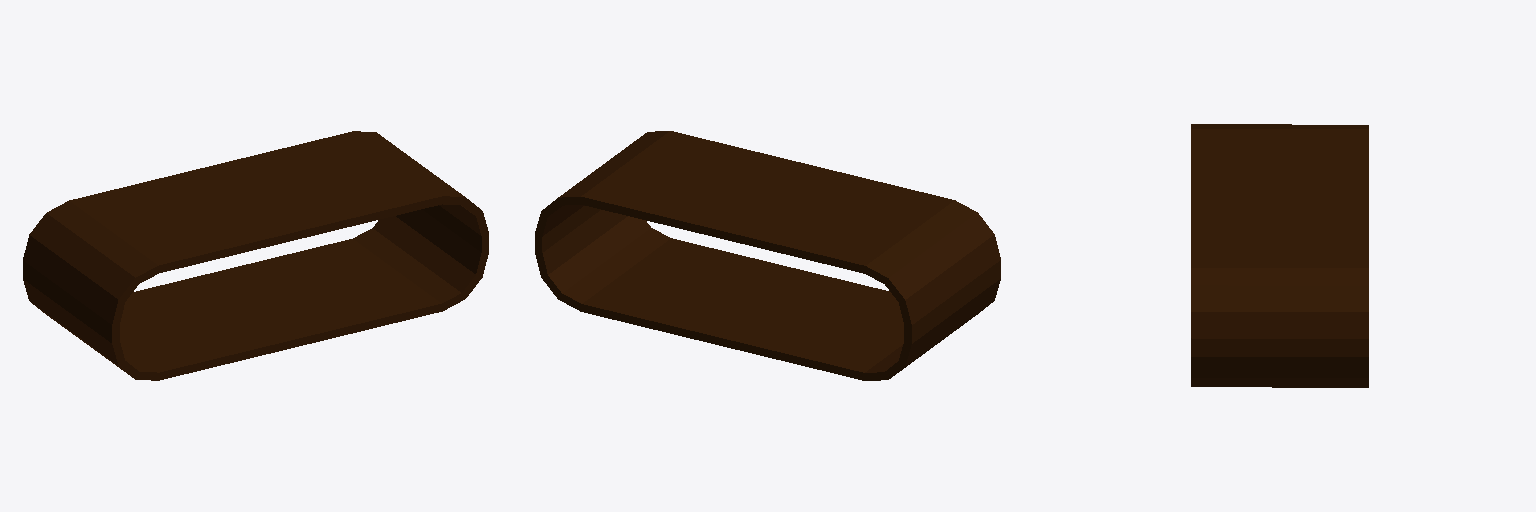
Rendered from Napkin Tie BB.obj.
3 renders of one model, left to right at view 1: azimuth 30°, elevation 25°; view 2: azimuth 150°, elevation 25°; view 3: azimuth 270°, elevation 25°, orthographic.
Parts seen in each view (by area): view 1: Napkin Tie BB; view 2: Napkin Tie BB; view 3: Napkin Tie BB.
Part boxes in pixels (x1,y1,x2,y2): Napkin Tie BB: (23,131,488,380); Napkin Tie BB: (535,131,1000,380); Napkin Tie BB: (1191,124,1368,387).
Size of the model in its own units: 0.0487 by 0.0143 by 0.02.